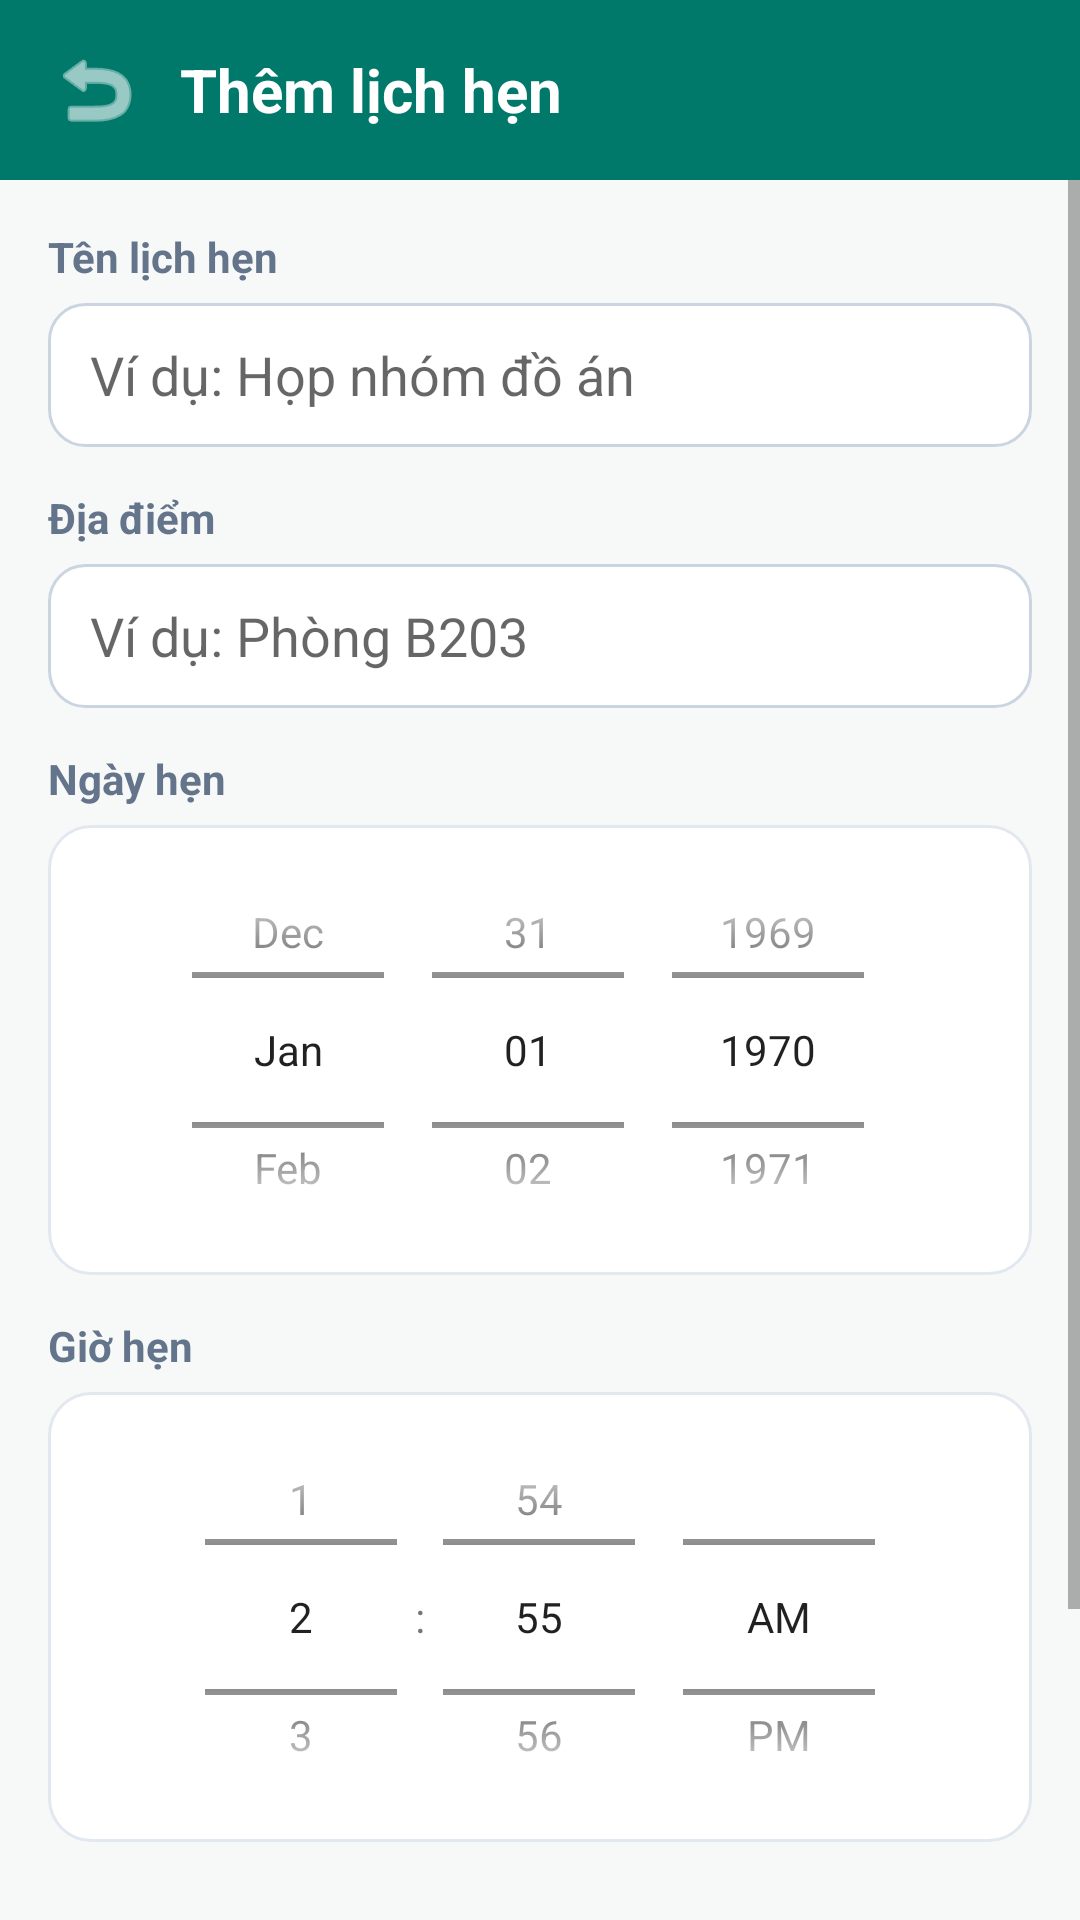

Where icons sit on this 1080*1920 app screen, as (x1, y1, x2, y2):
Quay lại: (63, 59, 132, 122)
